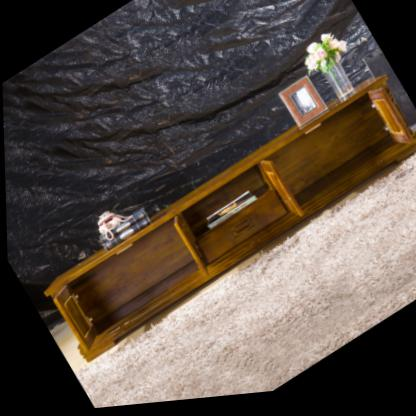TV stand: (32, 70, 416, 372)
